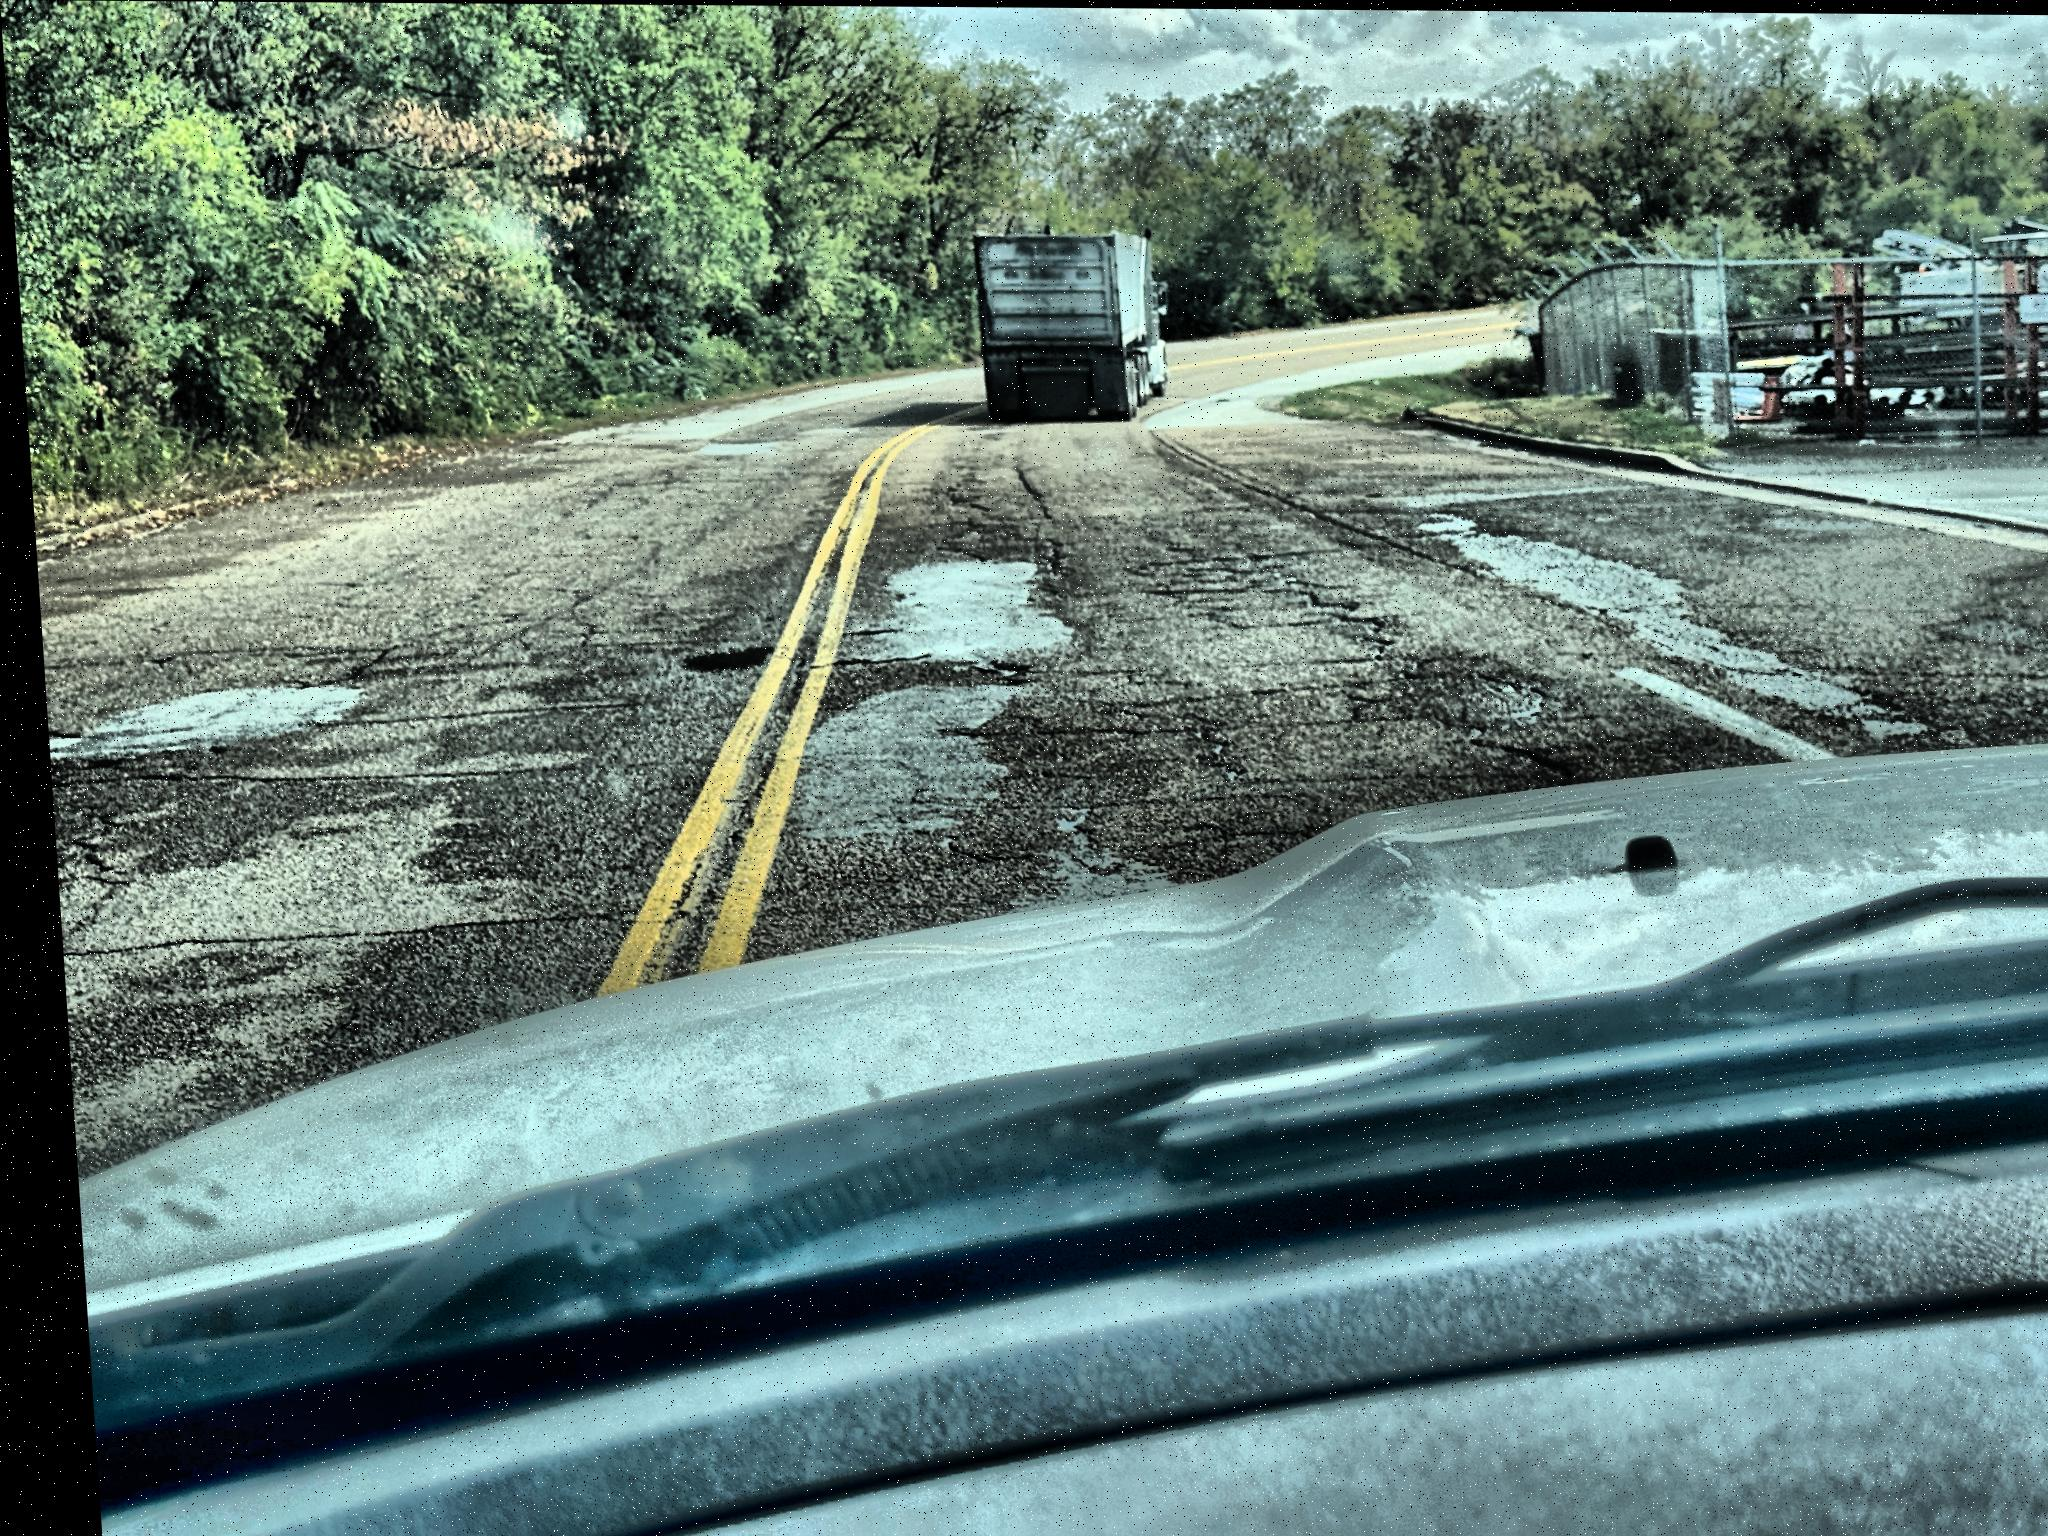pothole: (672, 646, 765, 676)
